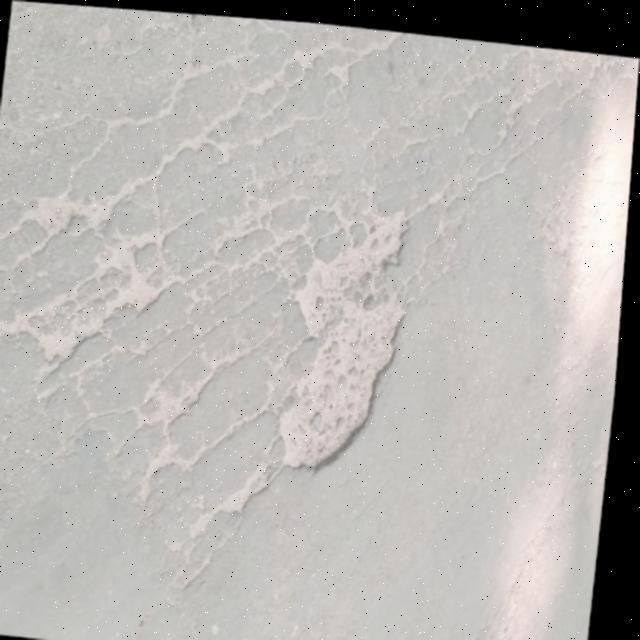pothole: (257, 176, 428, 482)
